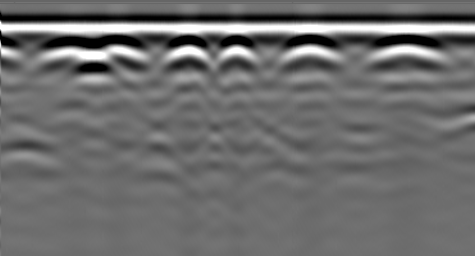steel: (370, 34, 443, 65), (278, 34, 342, 68), (45, 34, 101, 66), (97, 34, 149, 65), (216, 33, 255, 73), (165, 34, 210, 68)
